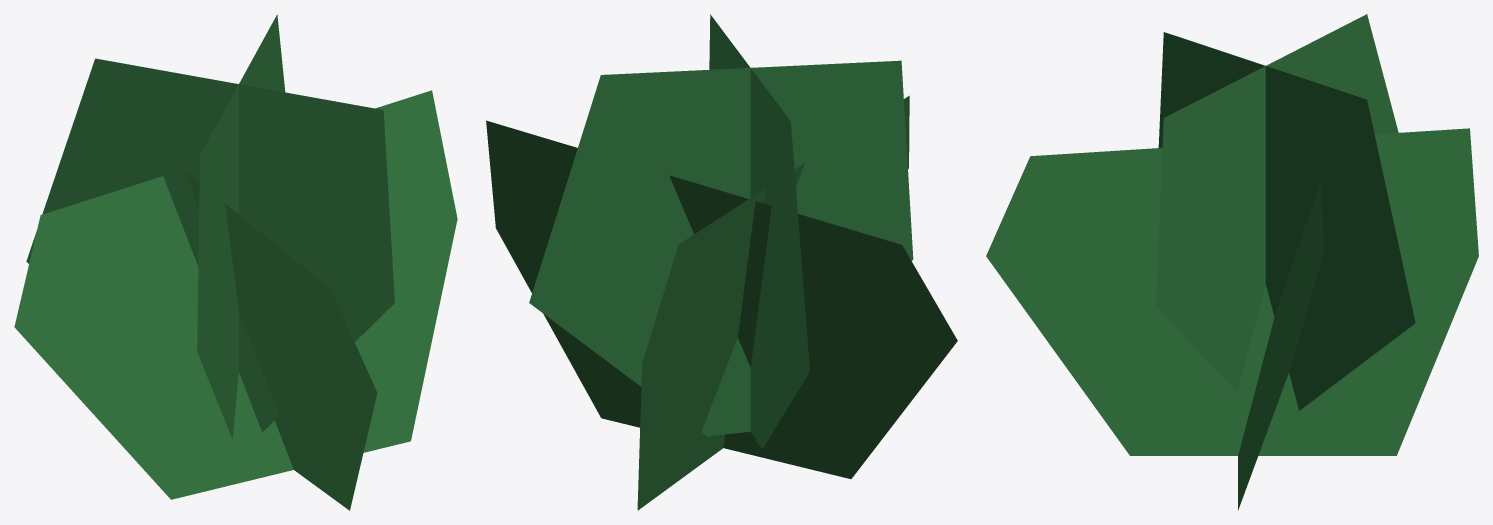
The model's file is SM_FOL_Grass_Clump_02_A.obj.
The picture shows the model from 3 angles, left to right: view 1: azimuth 30°, elevation 25°; view 2: azimuth 150°, elevation 25°; view 3: azimuth 270°, elevation 25°; orthographic projection. The views are drawn at different scales.
Parts seen in each view (by area): view 1: SM_FOL_Grass_Clump_02_A; view 2: SM_FOL_Grass_Clump_02_A; view 3: SM_FOL_Grass_Clump_02_A.
Boxes of the visible parts, bbox=[...] form: SM_FOL_Grass_Clump_02_A: bbox=[14, 14, 457, 510]; SM_FOL_Grass_Clump_02_A: bbox=[486, 14, 957, 510]; SM_FOL_Grass_Clump_02_A: bbox=[986, 14, 1478, 510].
Size of the model in its own units: 70.74 by 60.18 by 70.74.
